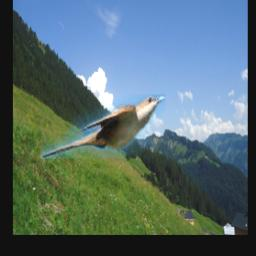Cuckoo: (40, 94, 165, 159)
